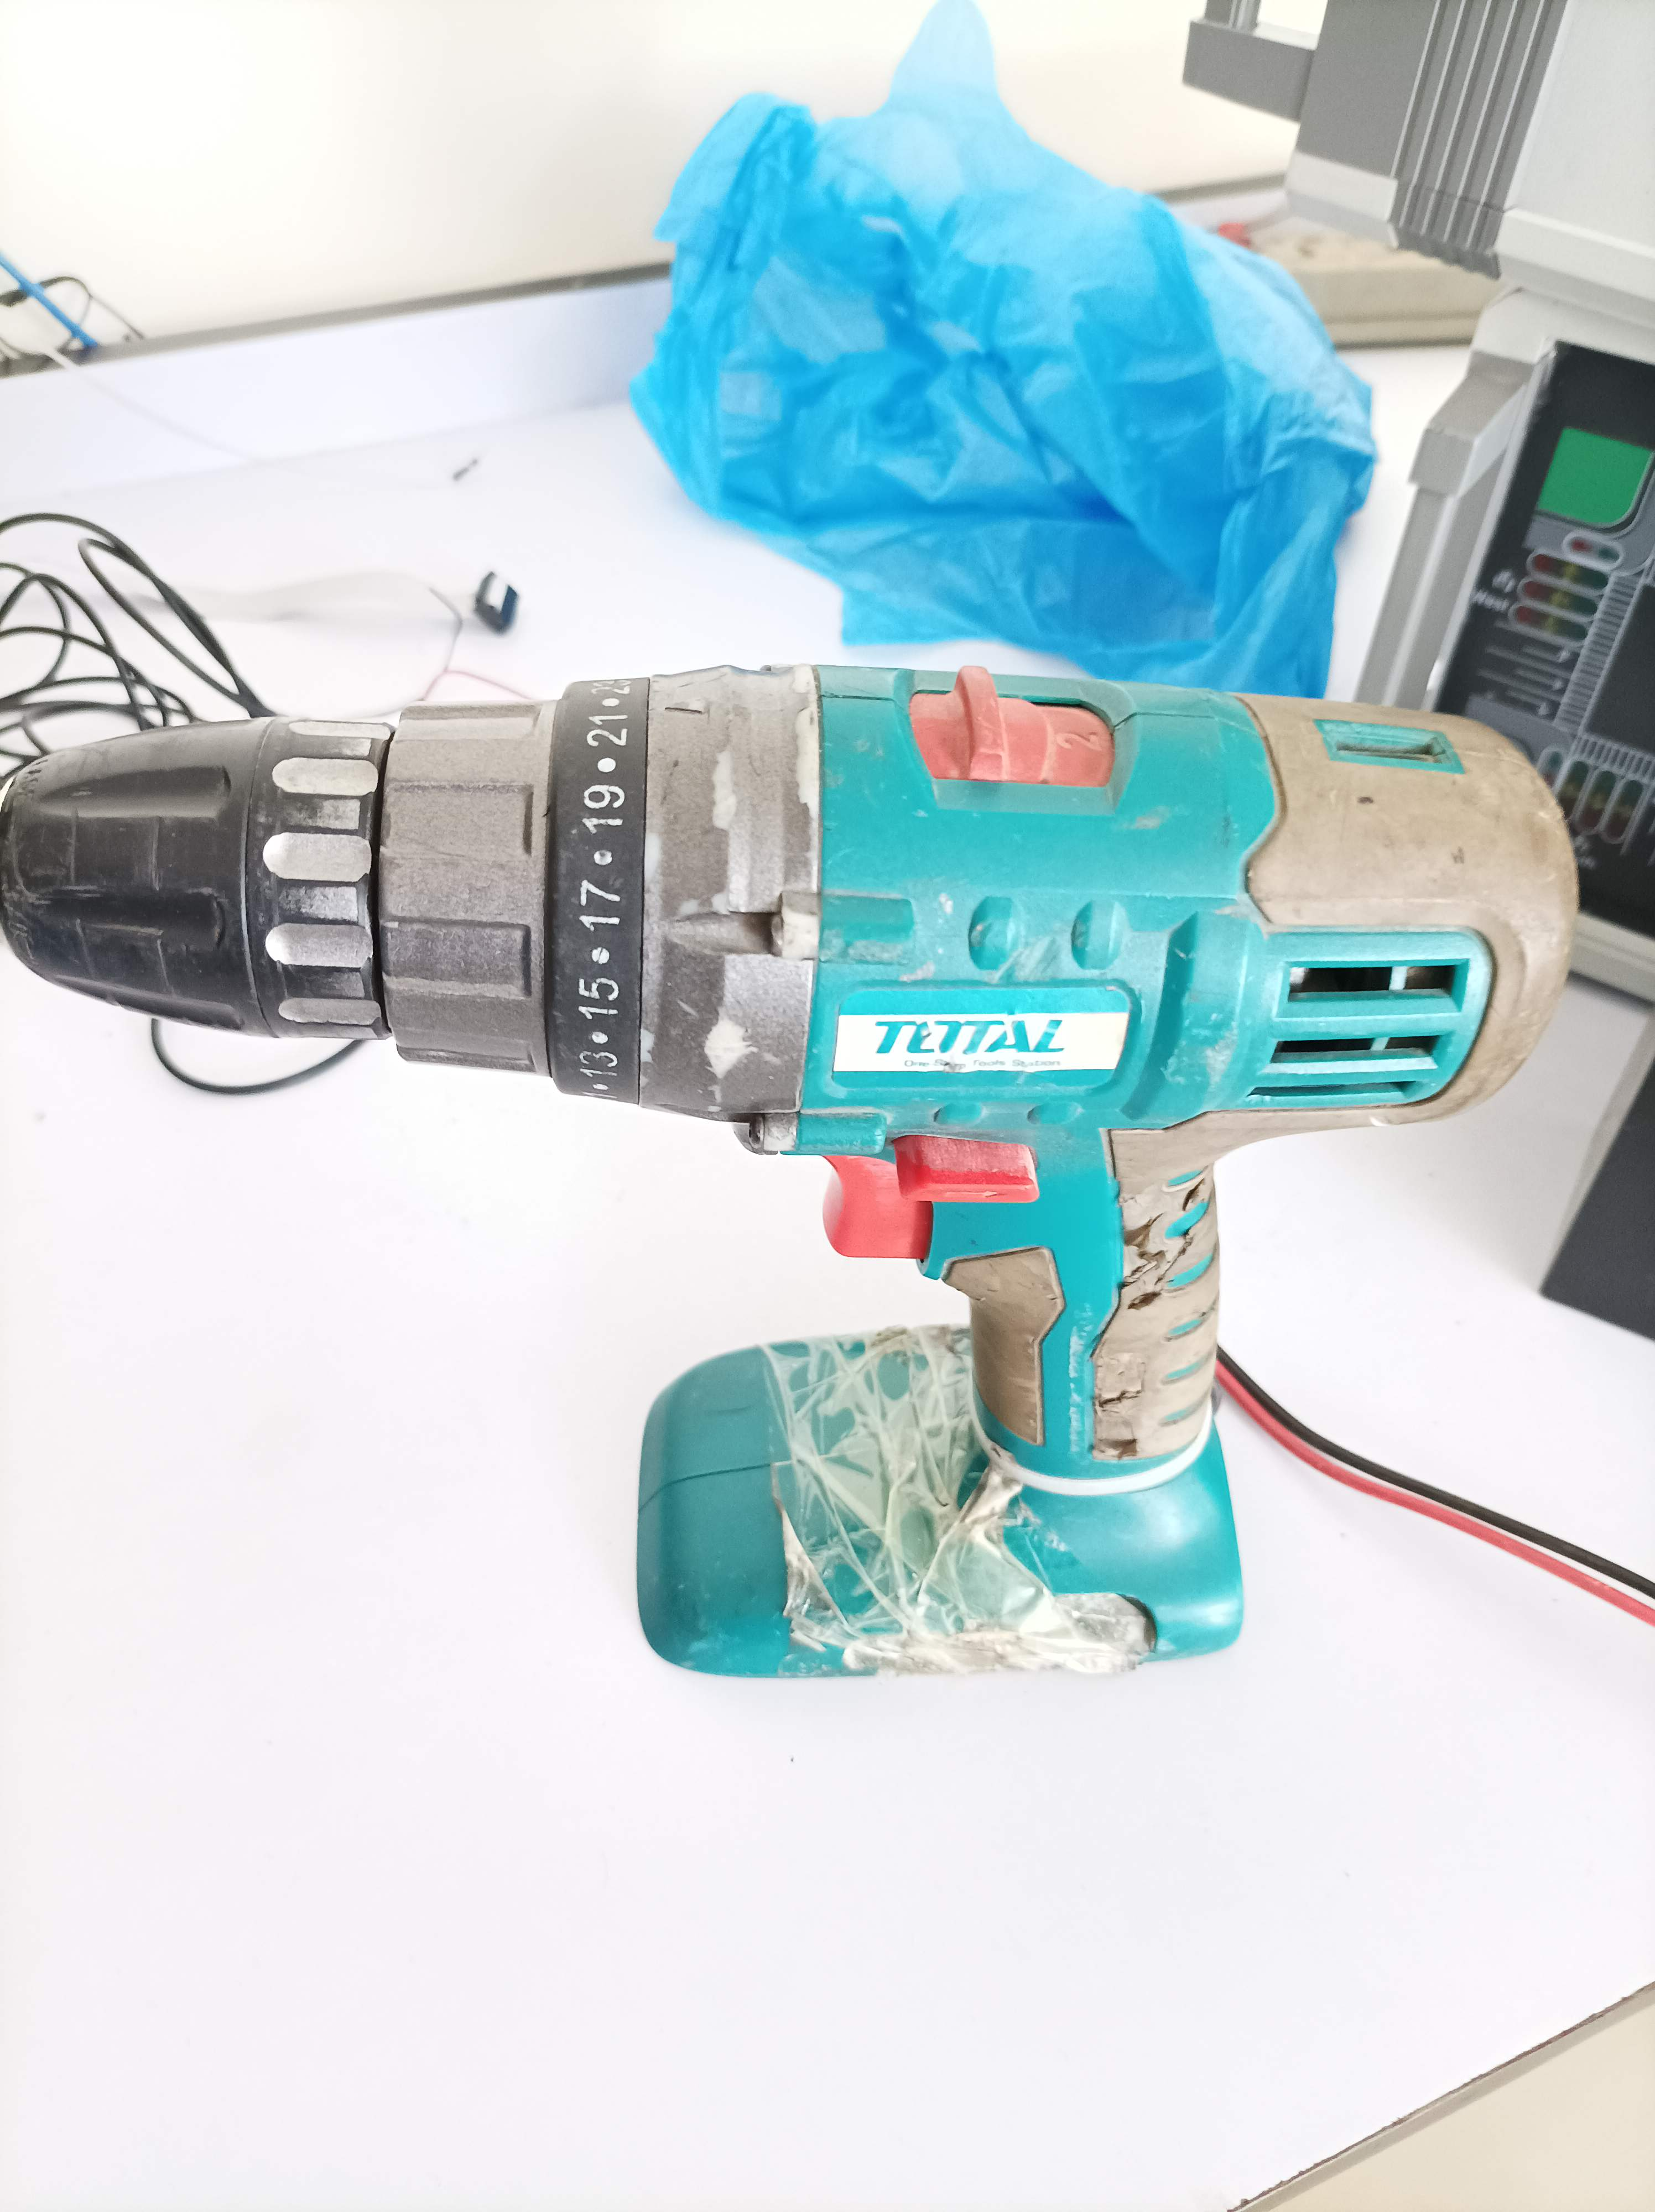driller: (0, 631, 1591, 1703)
